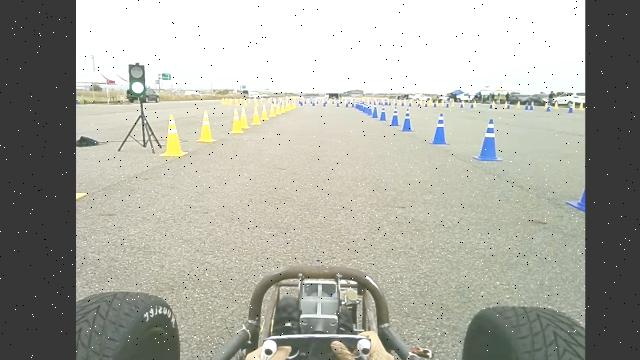blue cone: (473, 118, 503, 161), (429, 112, 450, 145), (400, 108, 414, 132), (389, 106, 400, 126), (379, 109, 388, 121), (372, 106, 378, 119)
yellow cone: (160, 114, 188, 157), (196, 110, 217, 143), (230, 107, 244, 134), (251, 107, 262, 125), (261, 104, 269, 120)
